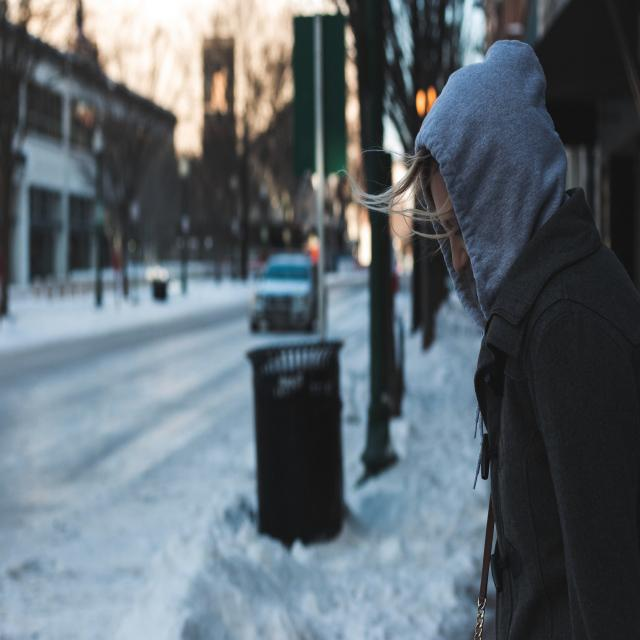adult: (418, 50, 633, 640)
